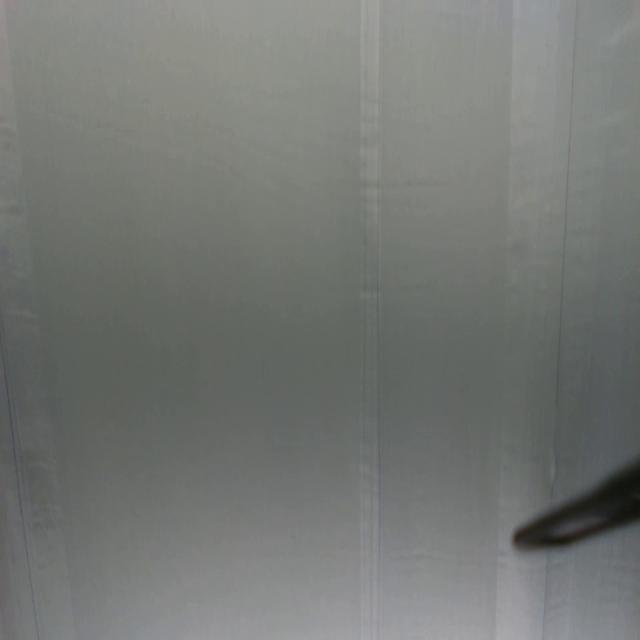crease: (356, 0, 386, 634), (548, 0, 580, 487), (0, 334, 45, 640)
